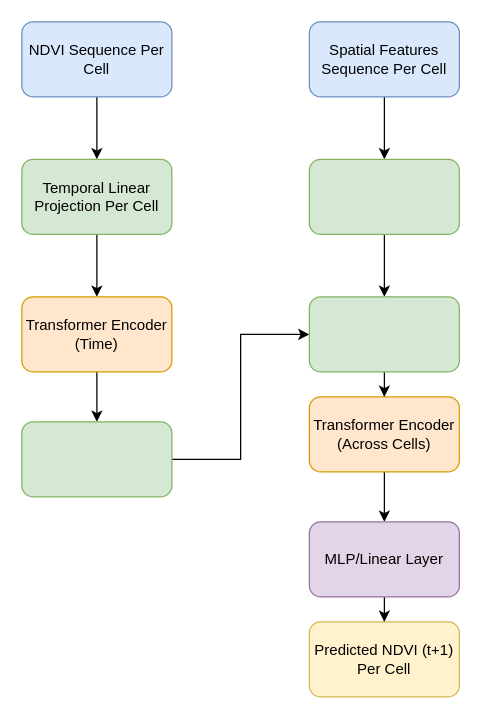
Some shapes in this 481 by 719 pixel diagram are drawn without their labels. Each missing label, with the centre of its shape:
"Add Temporal and Spatial Embedding Per Cell" belongs at (383,334).
"Spatial Embedding" belongs at (383,196).
"Temporal Embedding Per Cell" belongs at (96,459).
